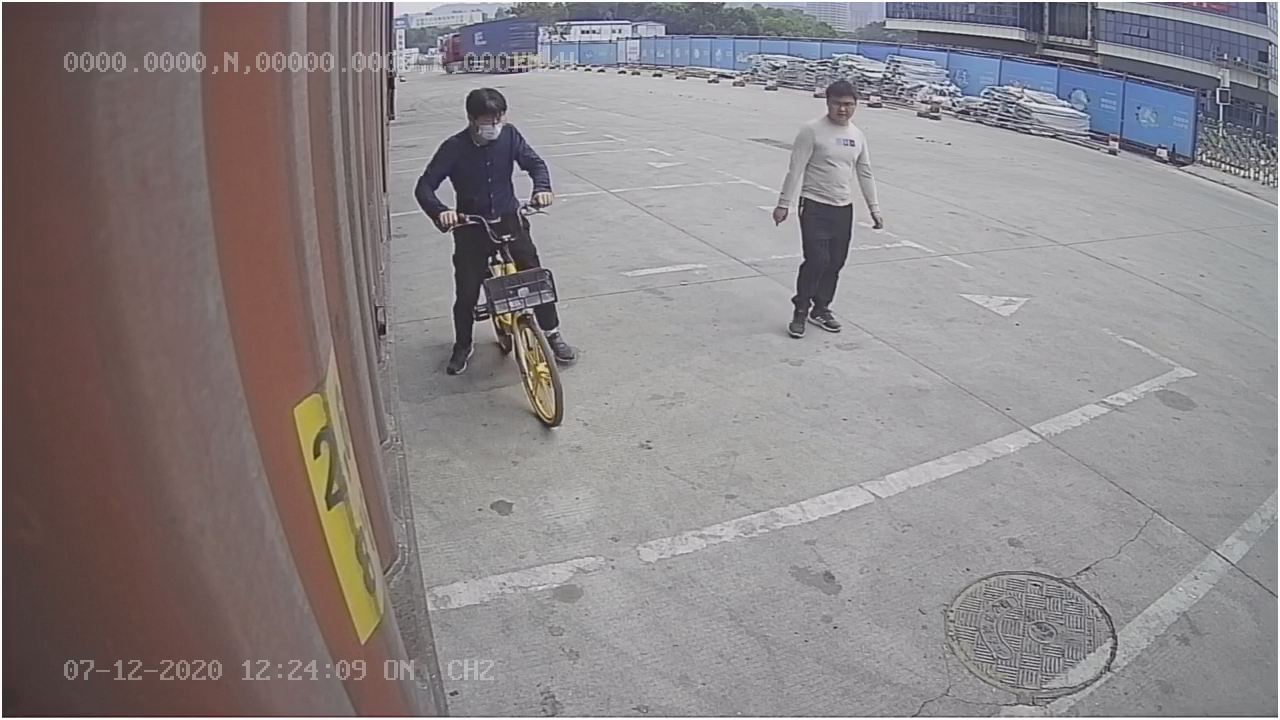person: (768, 75, 888, 347)
